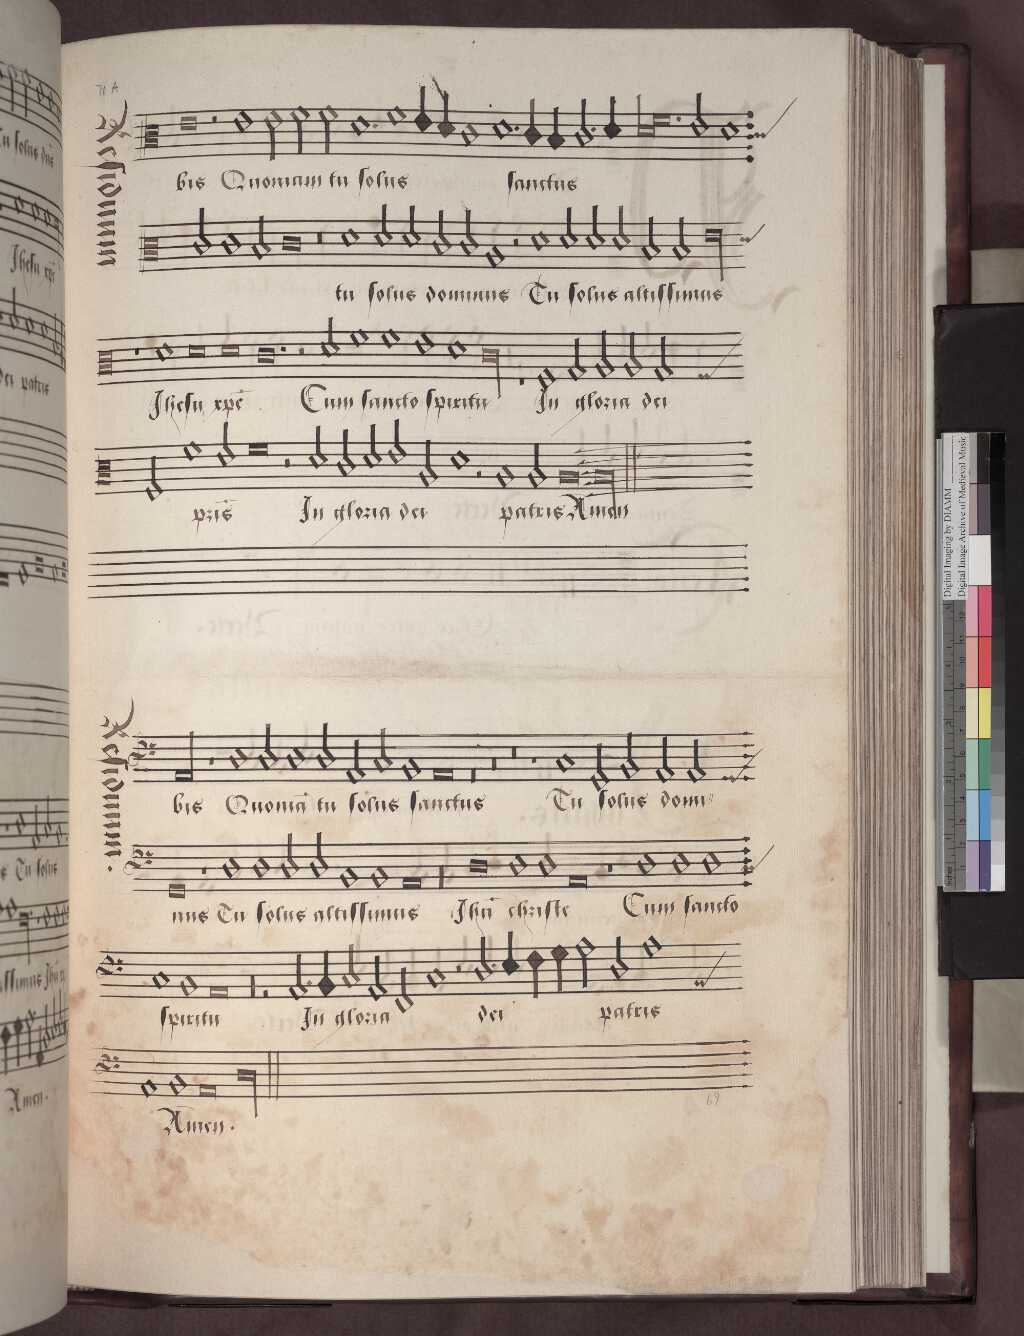breve_10: (397, 864, 429, 898), (561, 862, 593, 896)
breve_11: (162, 872, 193, 906)
breve_7: (464, 845, 494, 886)
custos_8: (739, 834, 782, 885)
f clef_5: (119, 836, 160, 883)
longa rest: (430, 839, 450, 905)
minim_7: (278, 821, 301, 886), (307, 824, 331, 886)
semibreve rest: (601, 833, 618, 894), (196, 838, 211, 901)
semibreve_7: (502, 842, 531, 886), (632, 842, 662, 886), (667, 841, 696, 885), (534, 841, 560, 889), (698, 840, 726, 884), (218, 845, 246, 889), (247, 845, 274, 889)
semibreve_9: (366, 856, 394, 896), (335, 856, 362, 895)
